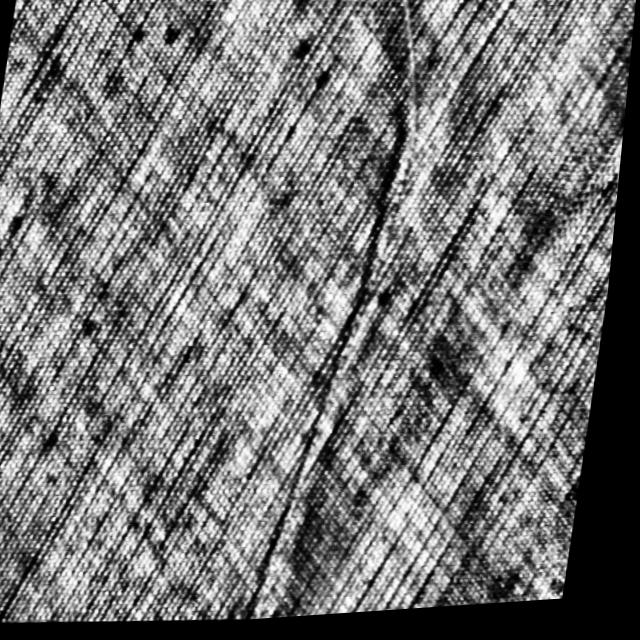Stitch: (252, 0, 443, 624)
